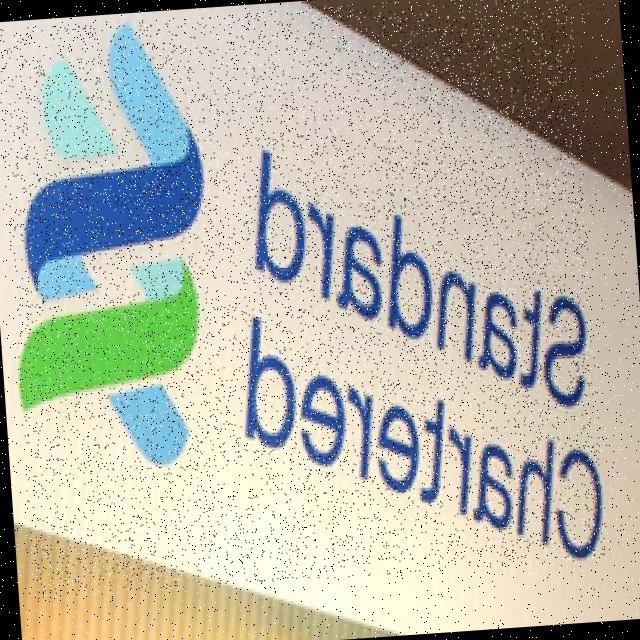Standard Chartered: (0, 0, 609, 598)
